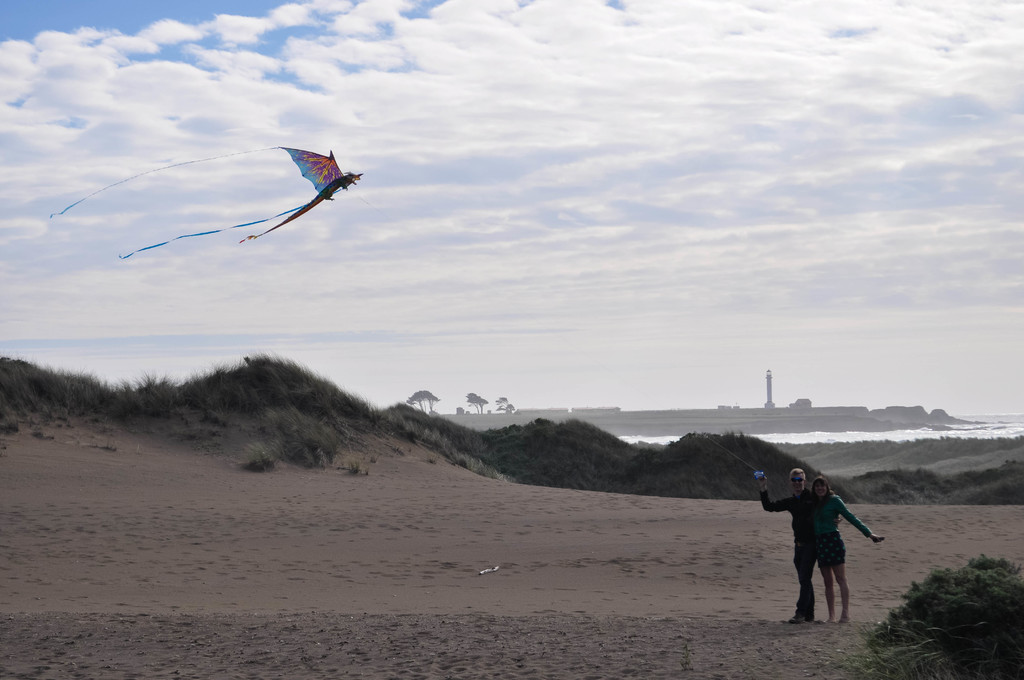kite: (52, 141, 365, 256)
